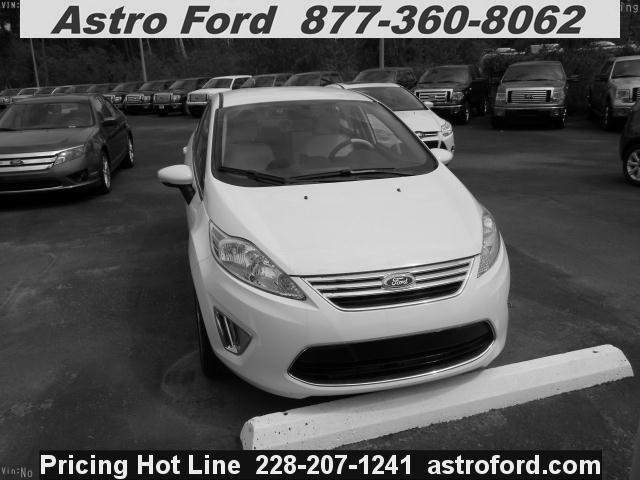car: (156, 87, 513, 399)
